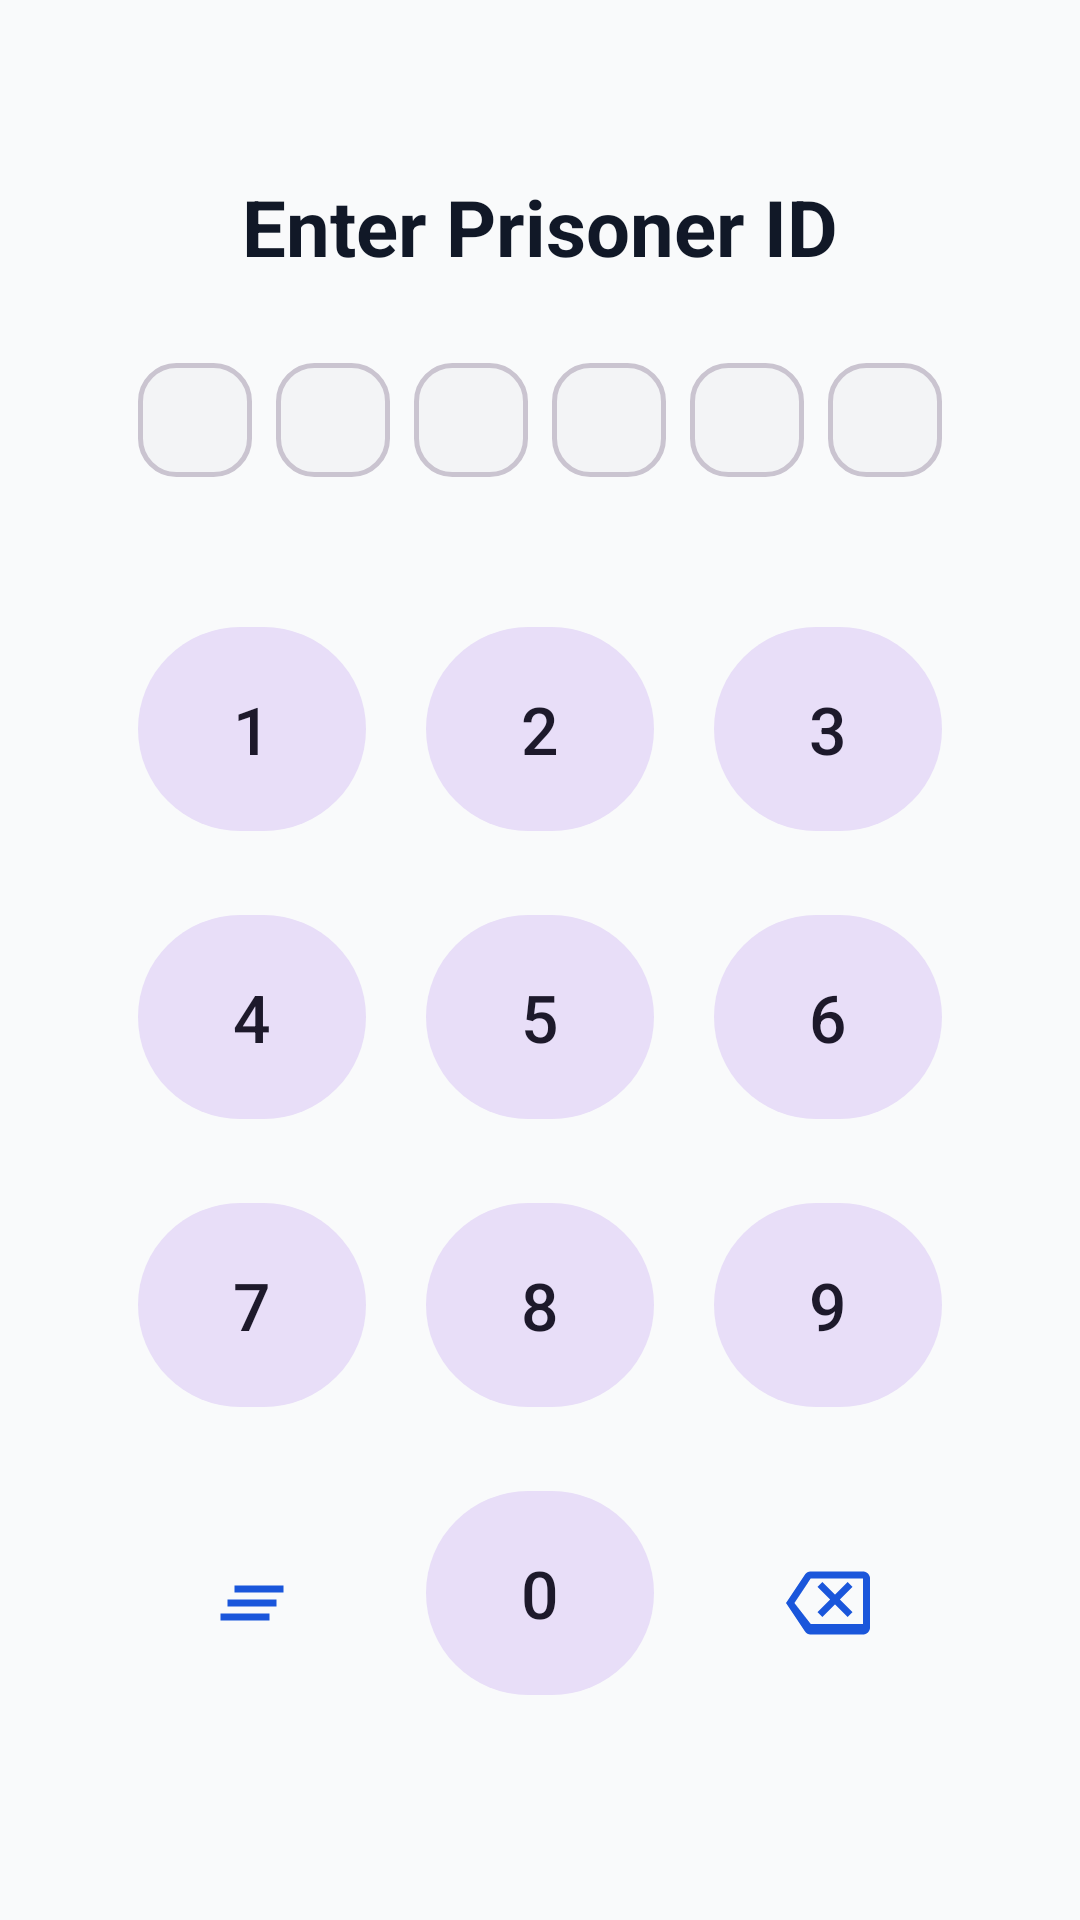

Named icons in this screenshot (1080 x 1920) and their centers, point (x, y):
backspace: point (828, 1603)
clear all: point (252, 1603)
